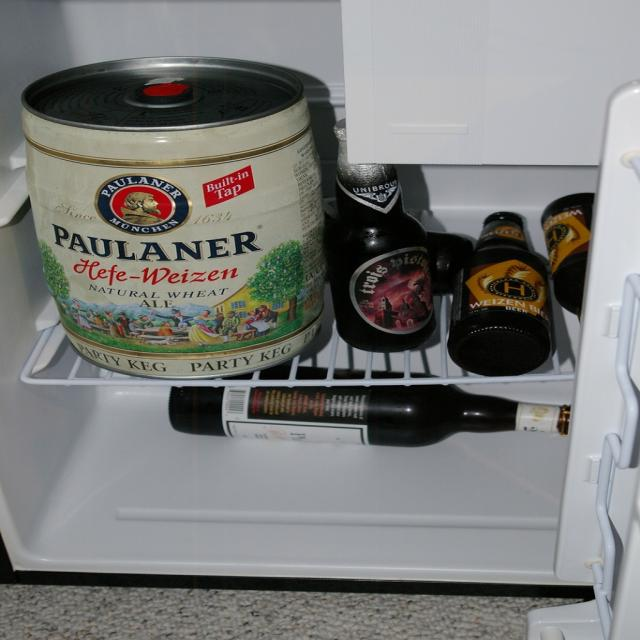paulaner: (95, 174, 192, 237)
